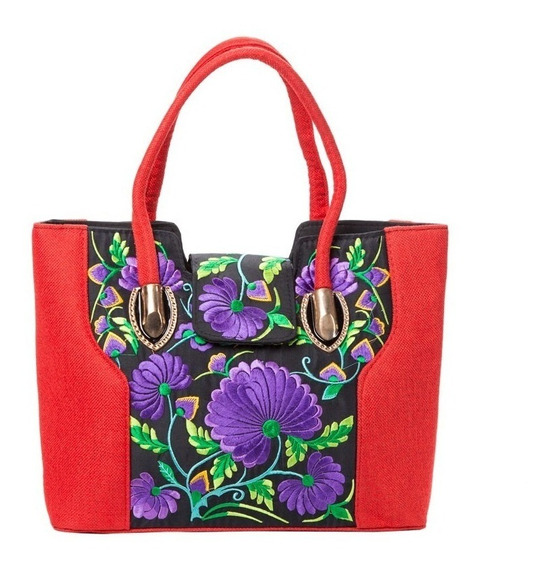cartera: (32, 34, 450, 537)
